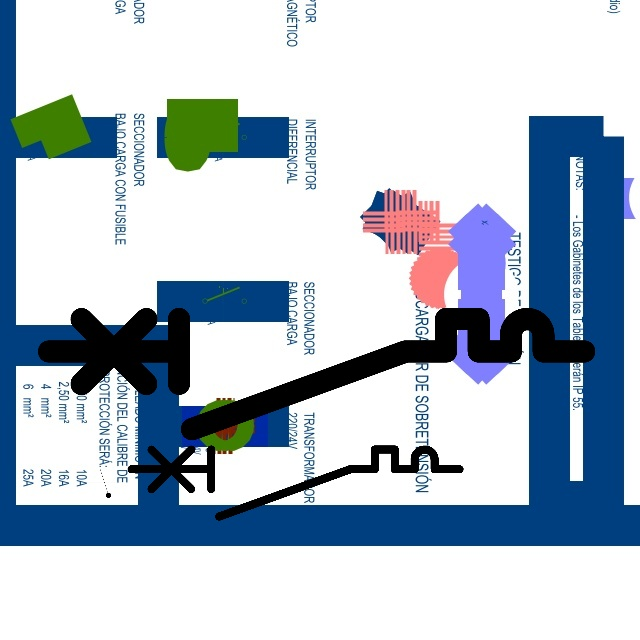interruptor_termomagnetico: (35, 305, 598, 443), (123, 441, 468, 525)
